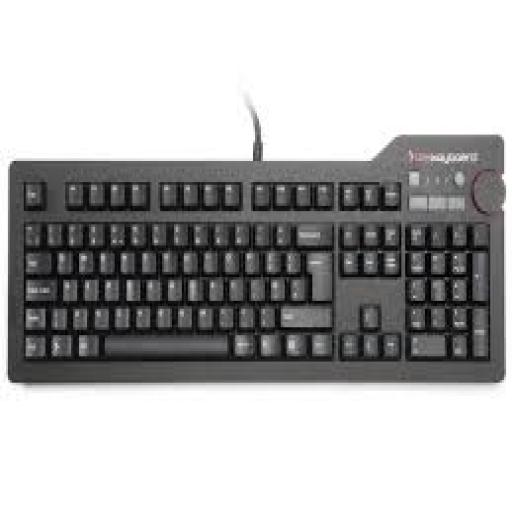KEYBOARD-2: (8, 135, 504, 380)
